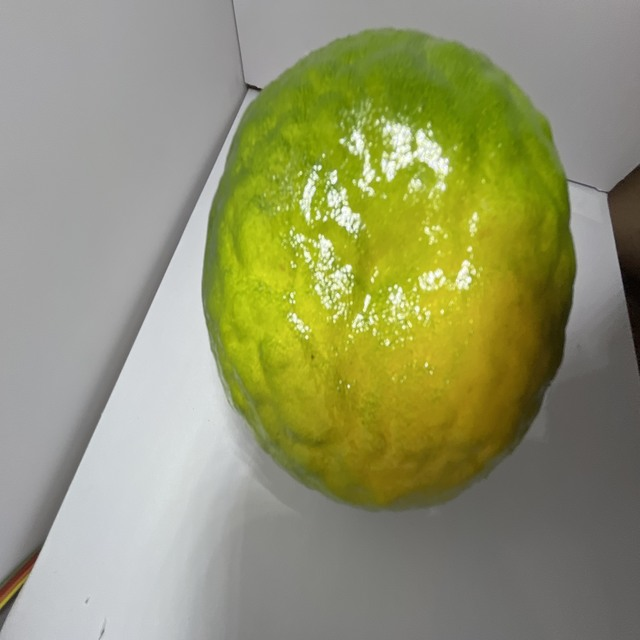Cam xanh: (203, 28, 577, 521)
